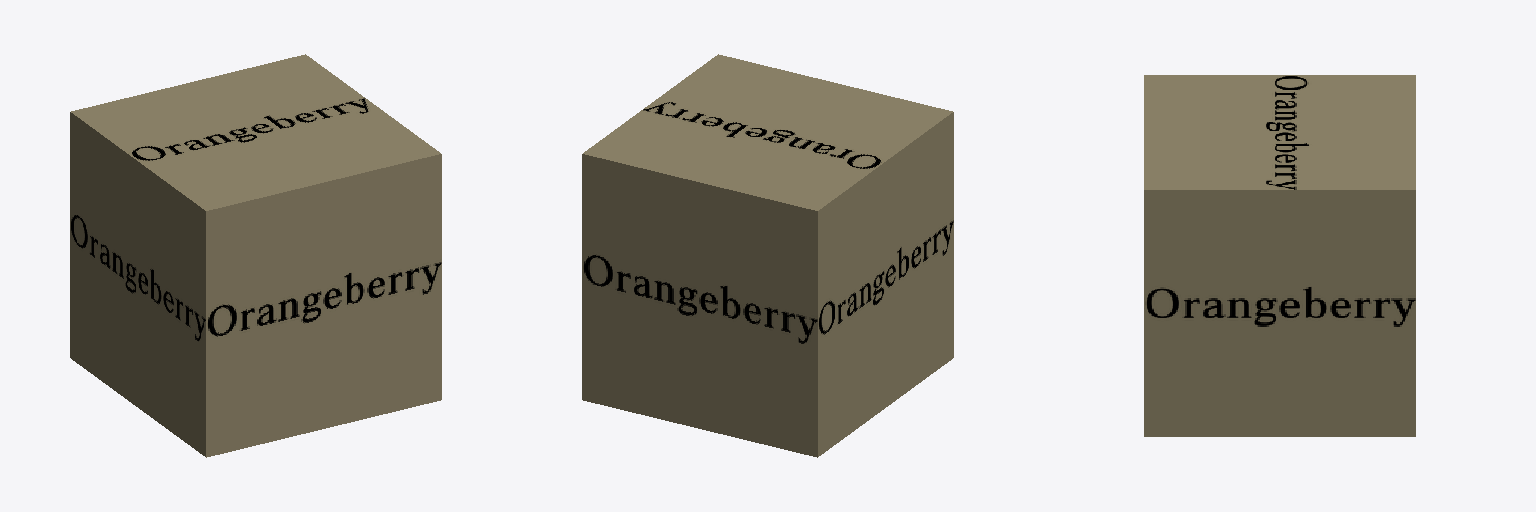
3 renders of one model, left to right at view 1: azimuth 30°, elevation 25°; view 2: azimuth 150°, elevation 25°; view 3: azimuth 270°, elevation 25°, orthographic.
Visible parts, largest first — view 1: Cube; view 2: Cube; view 3: Cube.
Part boxes in pixels (x1,y1,x2,y2): Cube: (70, 54, 441, 457); Cube: (582, 54, 953, 457); Cube: (1144, 75, 1415, 436).
Bounding box in the file's own units: 0.6 × 0.6 × 0.6.
1 materials, 1 textured.